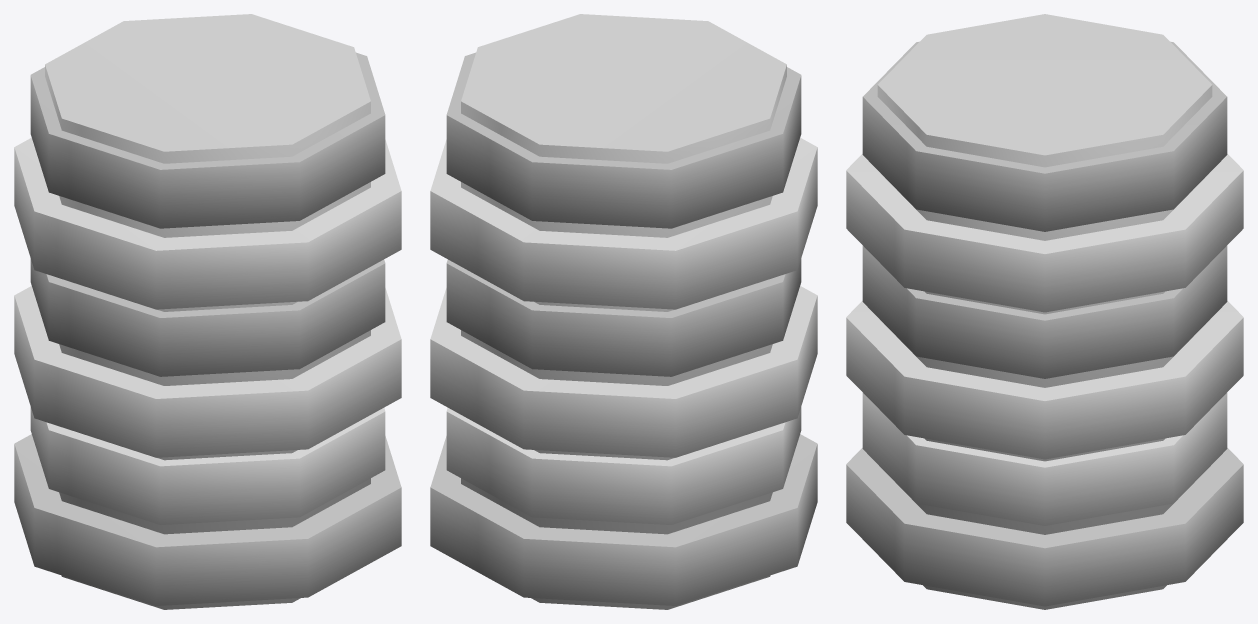
File: stone_grip_048.glb
3 views of the same model, side by side, from view 1: azimuth 30°, elevation 25°; view 2: azimuth 150°, elevation 25°; view 3: azimuth 270°, elevation 25° (orthographic).
Visible parts, largest first — view 1: stone_grip.048; view 2: stone_grip.048; view 3: stone_grip.048.
Boxes of the visible parts, x1,y1,x2,y2 form: stone_grip.048: [14, 14, 401, 609]; stone_grip.048: [430, 14, 817, 609]; stone_grip.048: [846, 14, 1243, 609].
Size of the model in its own units: 2.38 by 3 by 2.38.
1 material, 1 textured.
